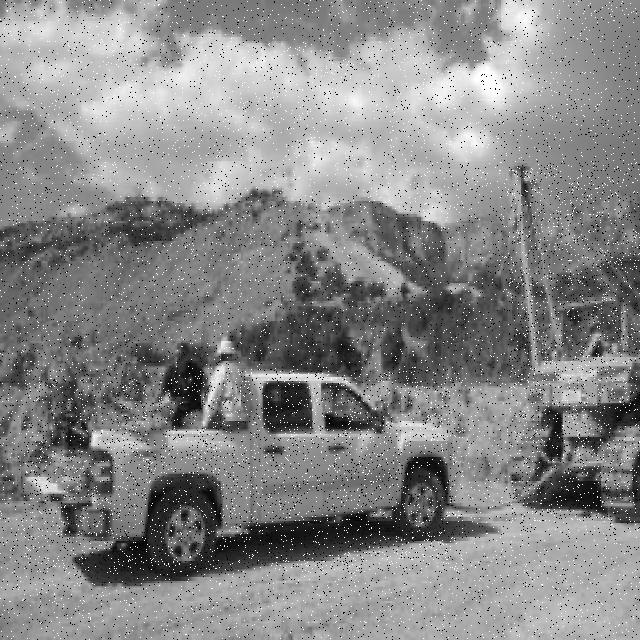Construction Equipment: (509, 163, 640, 521)
Pickup: (24, 369, 461, 574)
